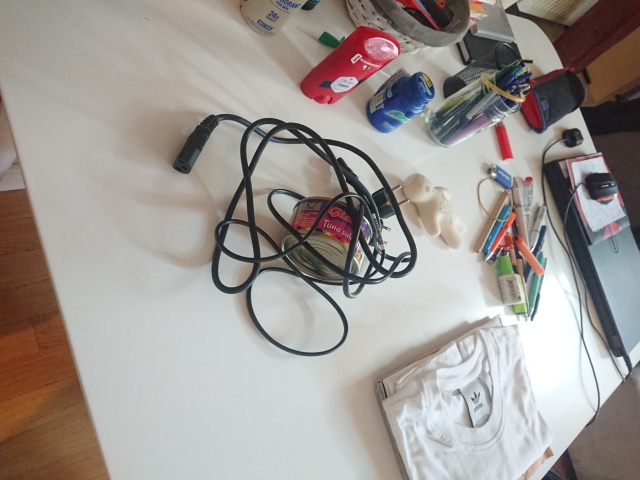Giana Tuna Salad Mexico 185g: (278, 195, 374, 282)
